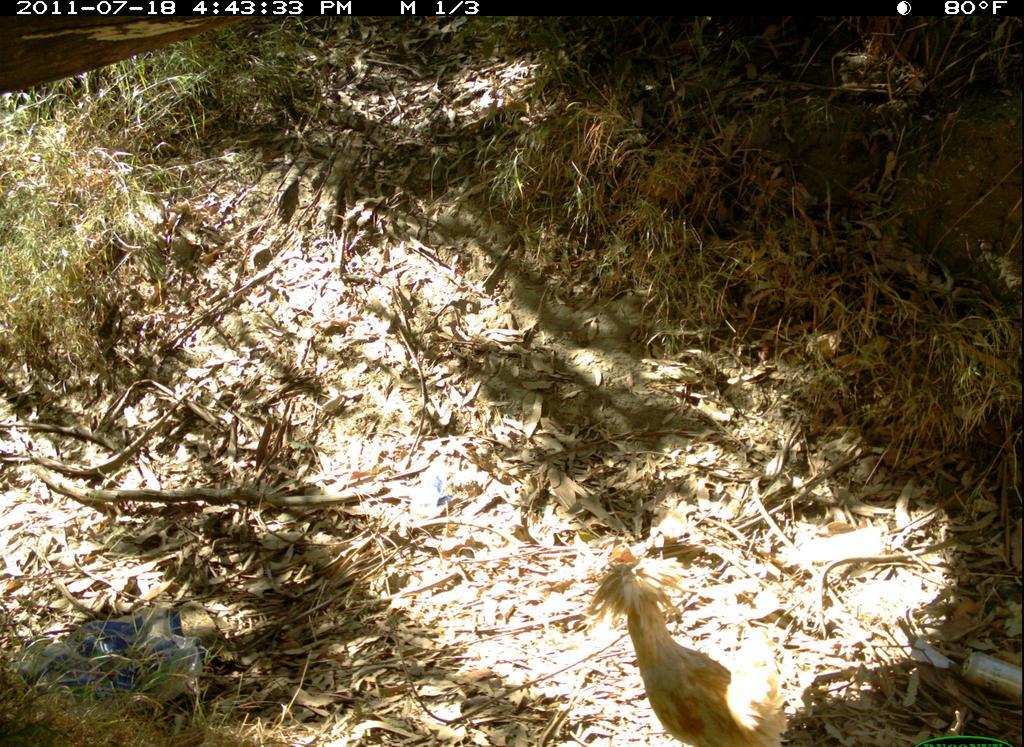bird: (585, 543, 797, 747)
